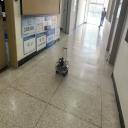cart: (55, 61, 69, 77)
